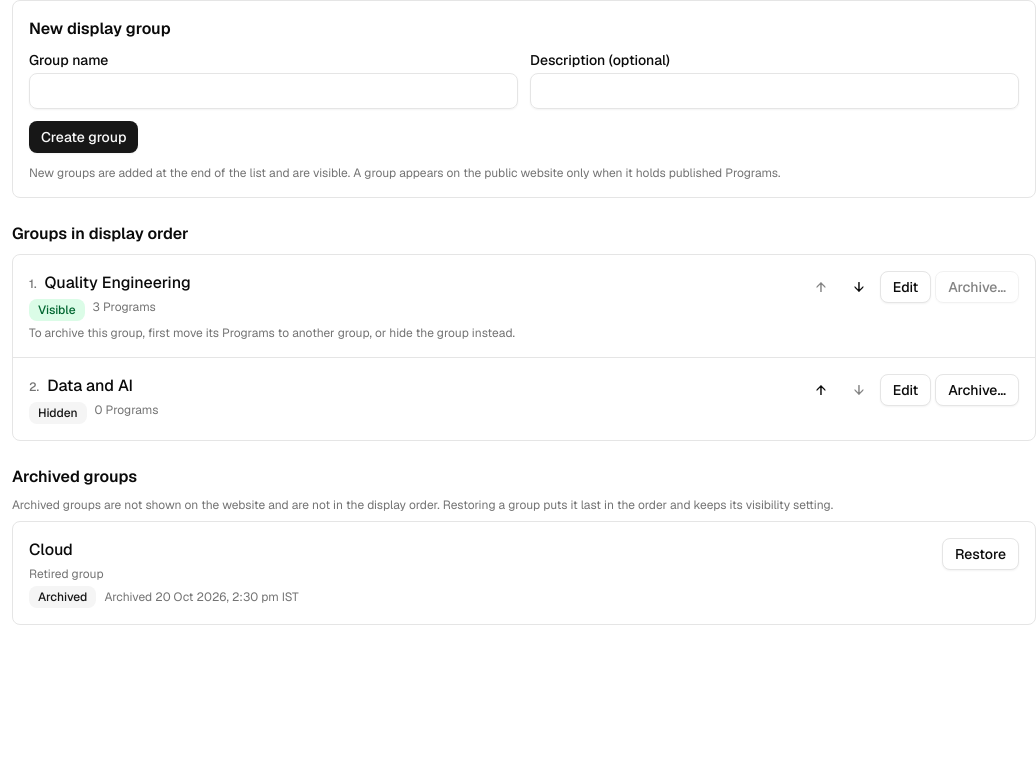
DisplayGroupsManager archive and restore › restores a group with its version and shows the outcome
Click the button with aria-label "Restore Cloud" at (980, 554), box top-left (942, 538), bottom-right (1019, 570)
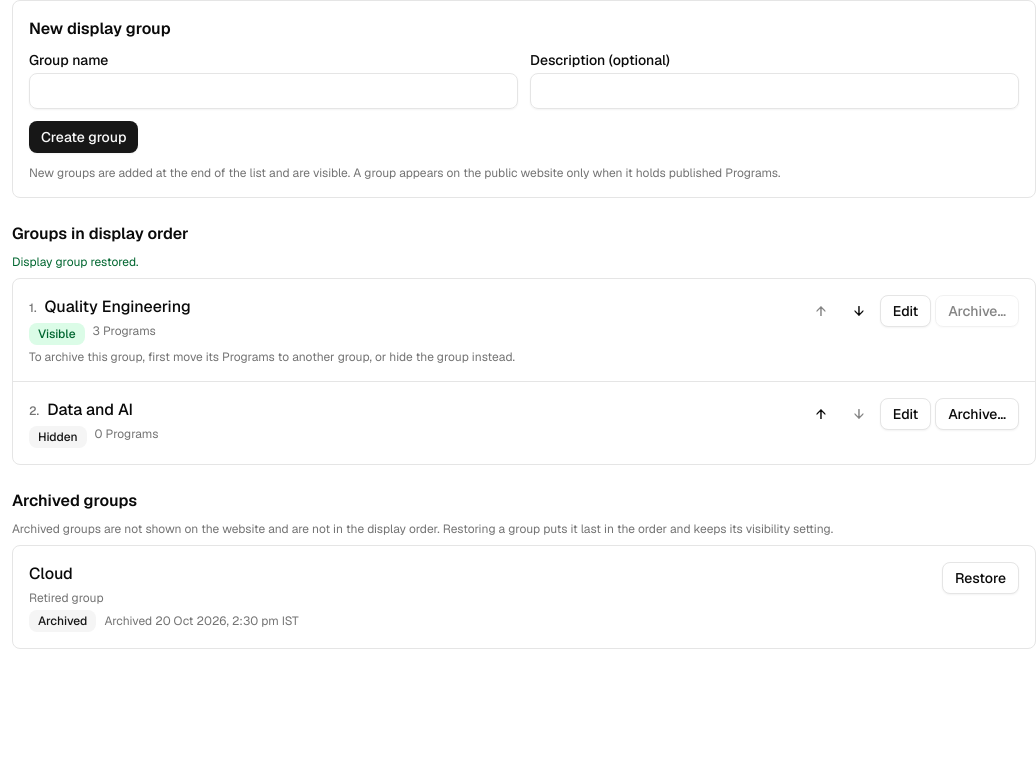
Check: the message reads "Display group restored.", box top-left (12, 254), bottom-right (138, 270)
